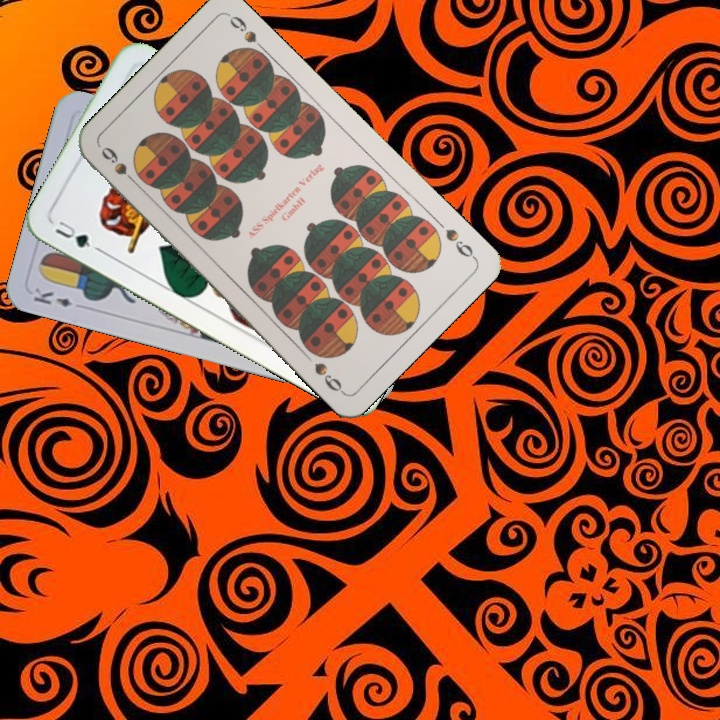EK: (29, 284, 75, 310)
GU: (51, 217, 102, 254)
S9: (97, 142, 143, 190), (441, 224, 479, 262)
